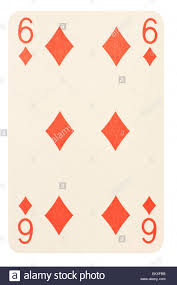six of diamonds: (10, 11, 166, 252)
